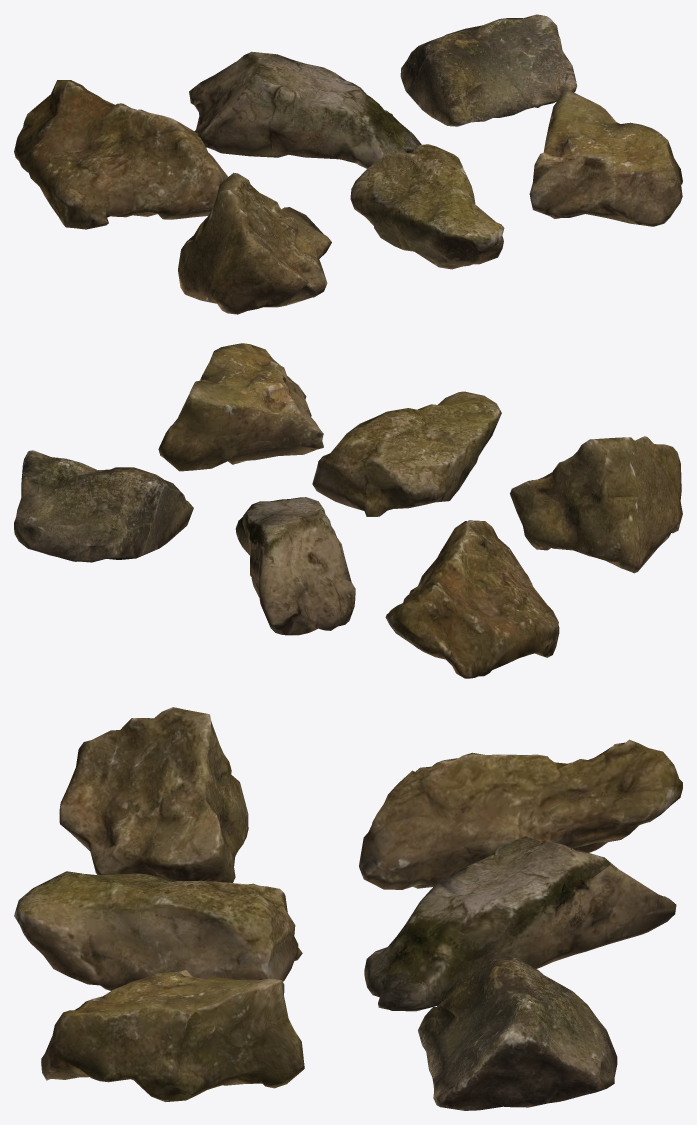
Rendered from ph-rock_moss_set_01.glb.
3 views of the same model, one above another, from view 1: azimuth 30°, elevation 25°; view 2: azimuth 150°, elevation 25°; view 3: azimuth 270°, elevation 25° (orthographic). The views are drawn at different scales.
Parts seen in each view (by area): view 1: rock_moss_set_01_rock01; view 2: rock_moss_set_01_rock01; view 3: rock_moss_set_01_rock01.
Boxes of the visible parts, x1=… form: rock_moss_set_01_rock01: x1=14, y1=14, x2=682, y2=314; rock_moss_set_01_rock01: x1=14, y1=343, x2=682, y2=678; rock_moss_set_01_rock01: x1=14, y1=707, x2=682, y2=1110.
Bounding box in the file's own units: 8 × 1.76 × 6.94.
Materials: 1 (1 with a texture image).
